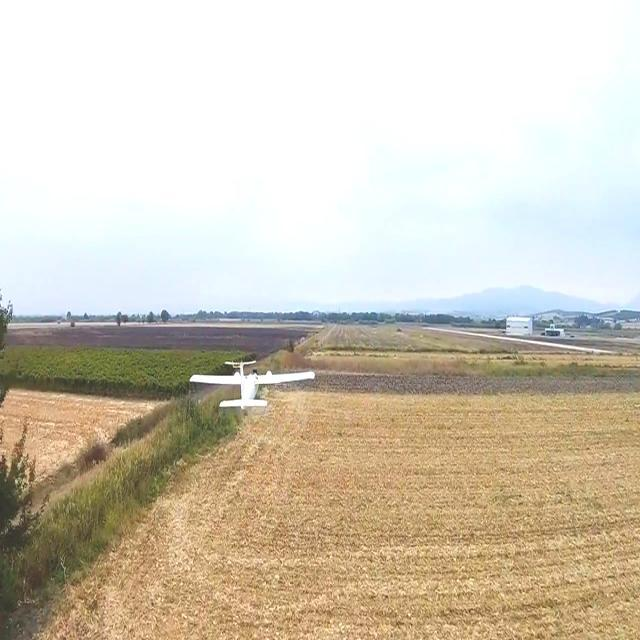iha: (184, 371, 318, 389)
